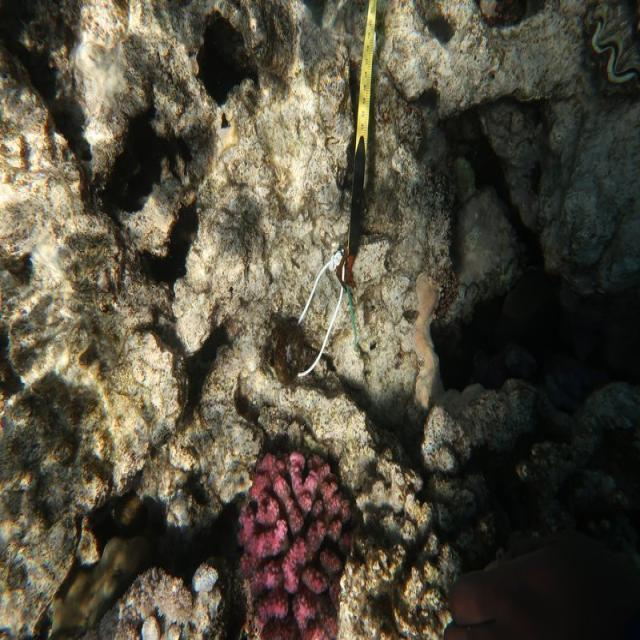Healthy Coral: (236, 447, 359, 640)
